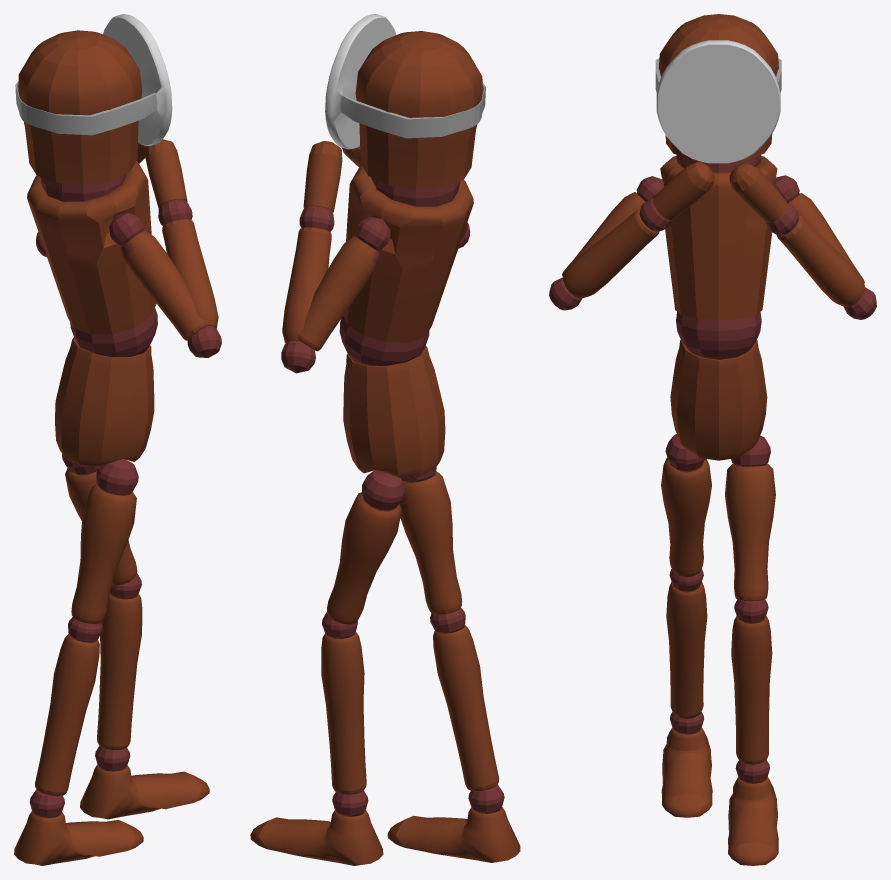
File: AE_Mann_With_Gasp_Anim001.fbx
The picture shows the model from 3 angles, left to right: view 1: azimuth 30°, elevation 25°; view 2: azimuth 150°, elevation 25°; view 3: azimuth 270°, elevation 25°; orthographic projection. The views are drawn at different scales.
Parts seen in each view (by area): view 1: Mann_Fullset; view 2: Mann_Fullset; view 3: Mann_Fullset.
Part boxes in pixels (<box>): Mann_Fullset: <box>14,14,221,865</box>; Mann_Fullset: <box>250,14,520,865</box>; Mann_Fullset: <box>549,14,876,865</box>.
Bounding box in the file's own units: 146 × 503 × 191.
